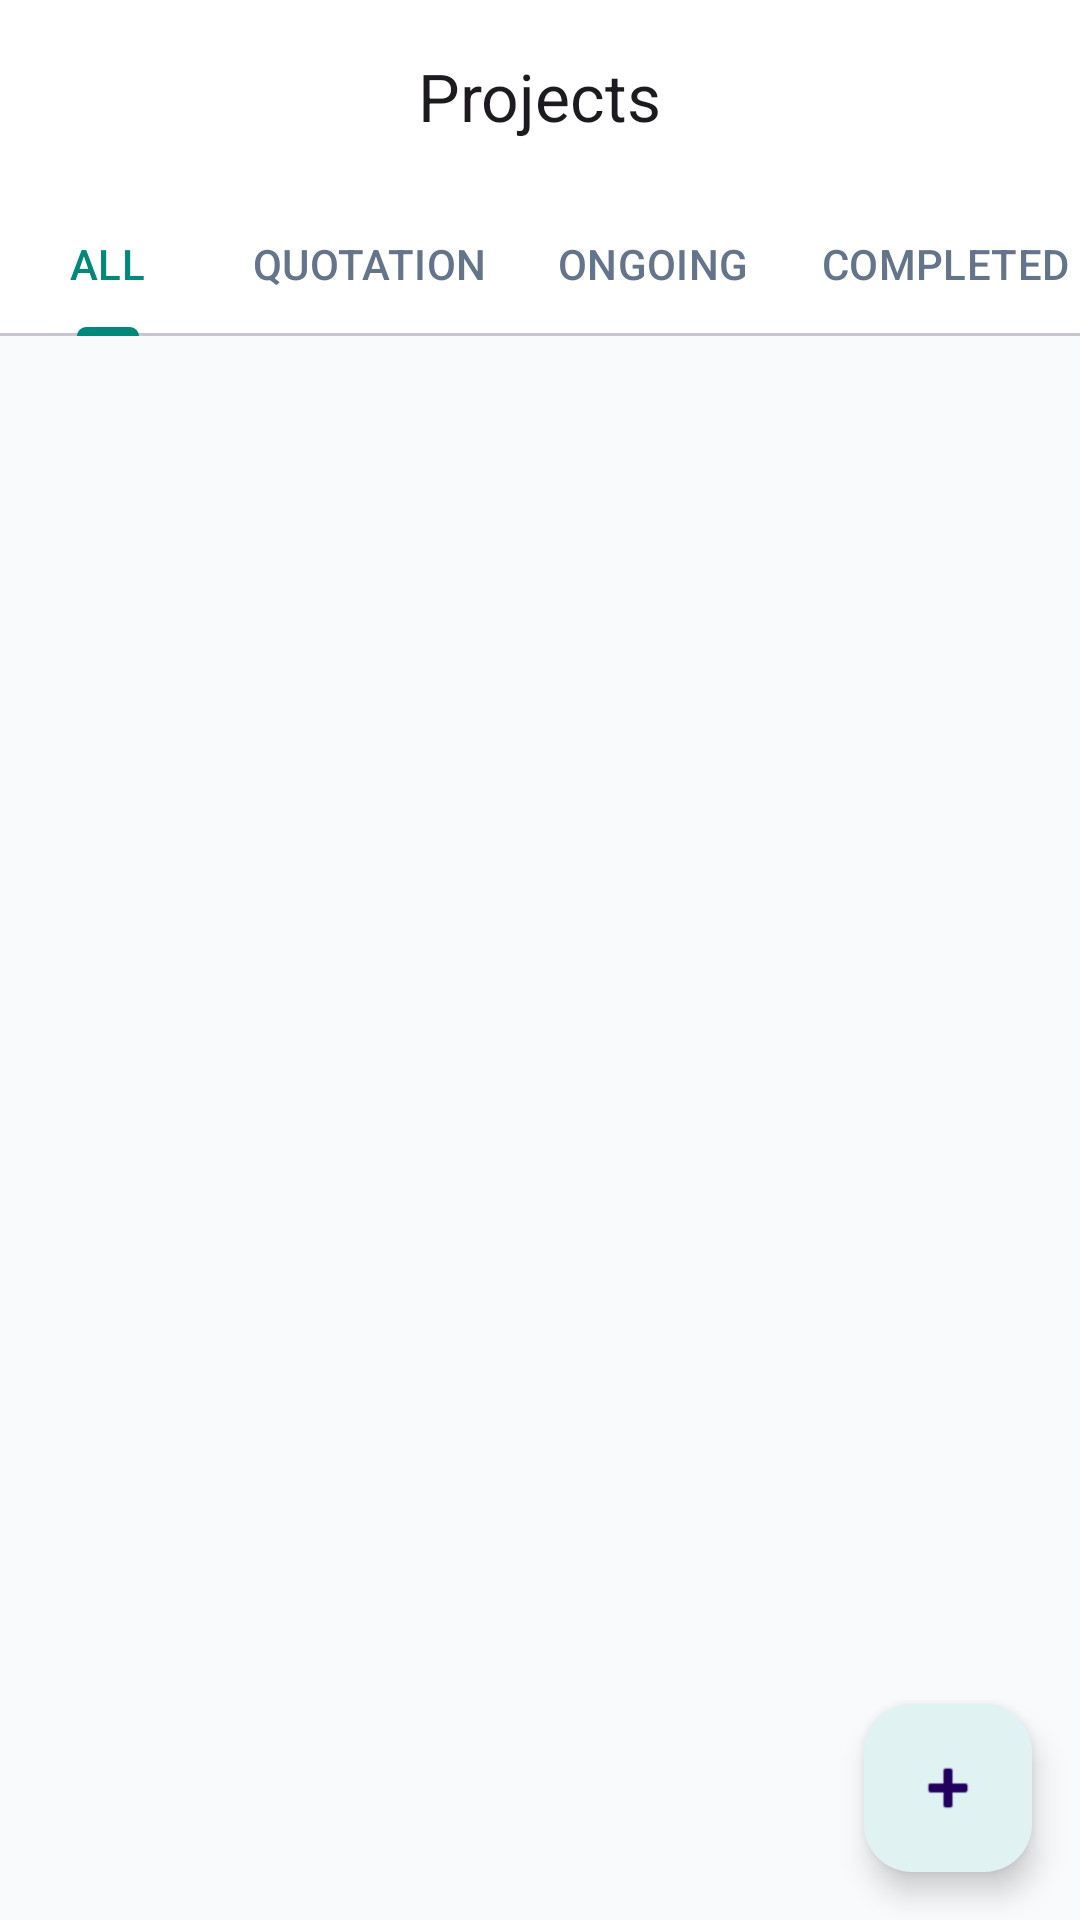

Screen size 1080px x 1920px. Icon name, then its center in pixels as point (x, y):
Add Project: point (948, 1788)
